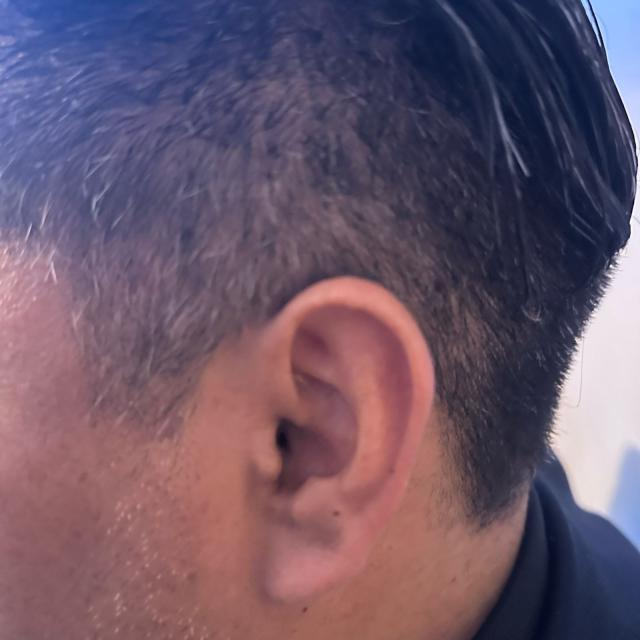ear: (241, 278, 435, 603)
